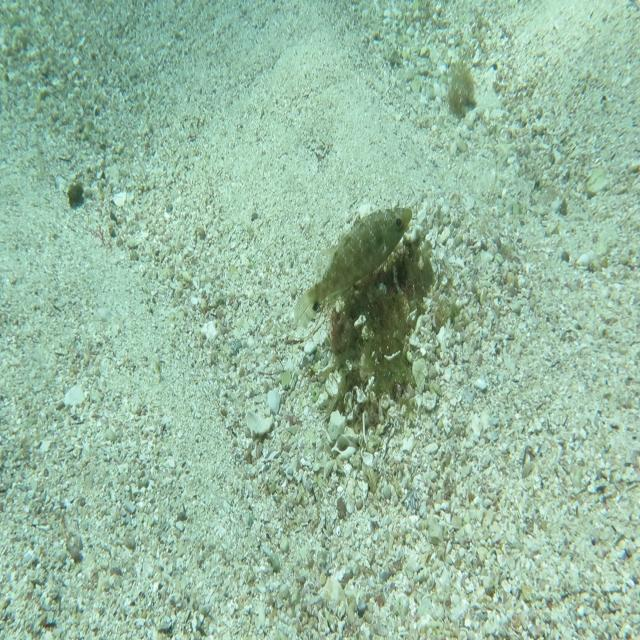FAN: (293, 204, 413, 334)
core_nest: (371, 268, 415, 310)
nest: (317, 216, 447, 424)
vegetation: (448, 60, 478, 126), (66, 181, 88, 213)
